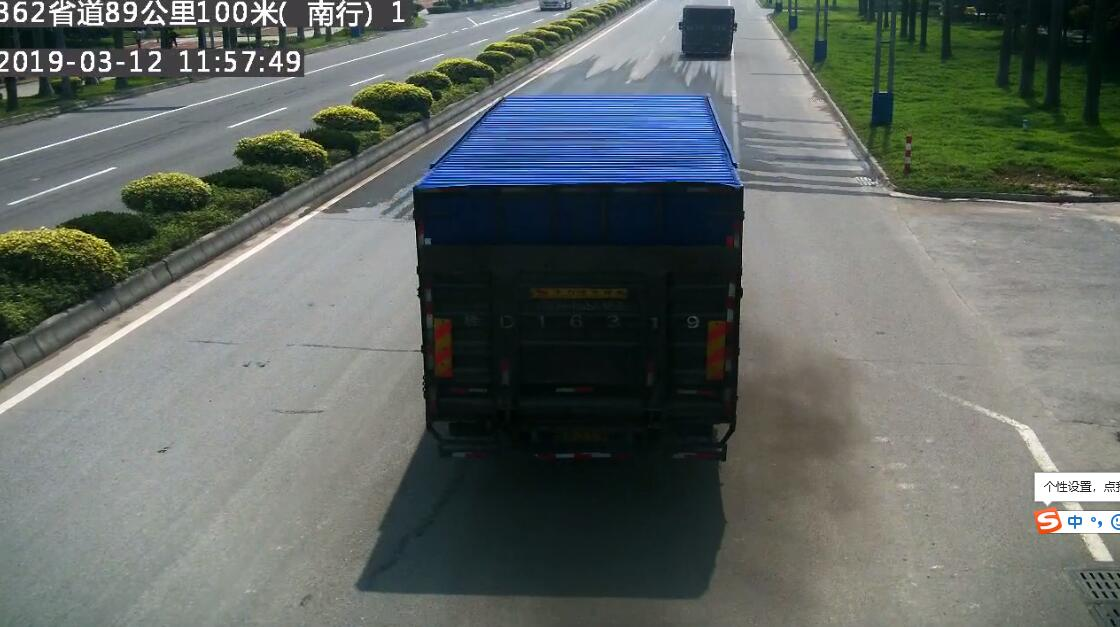yanwu: (720, 335, 862, 518)
